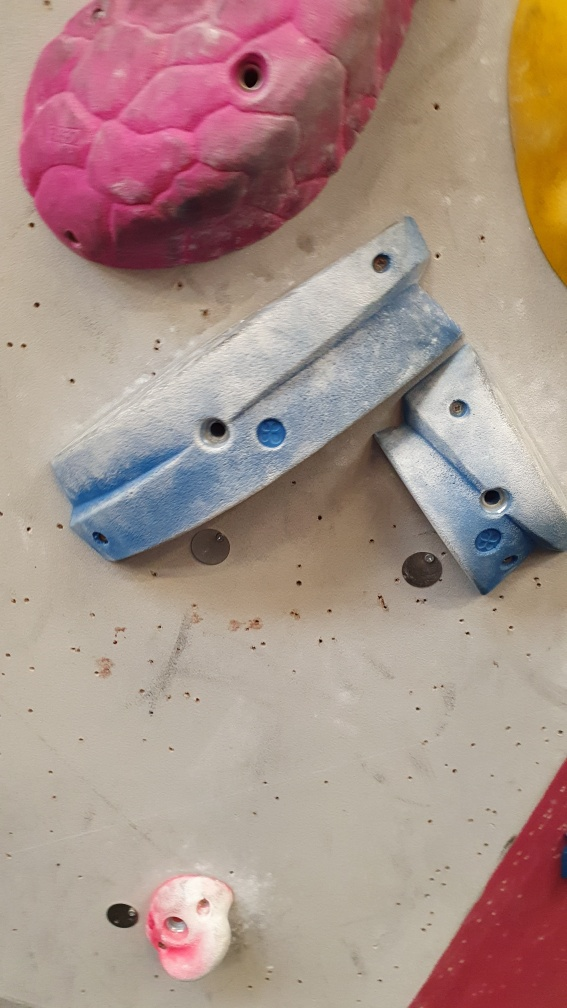Hand Start: (187, 527, 232, 569), (399, 550, 442, 589), (107, 900, 139, 931)
Jug: (143, 875, 241, 984)
Pinch: (51, 214, 462, 563), (370, 344, 562, 596)
